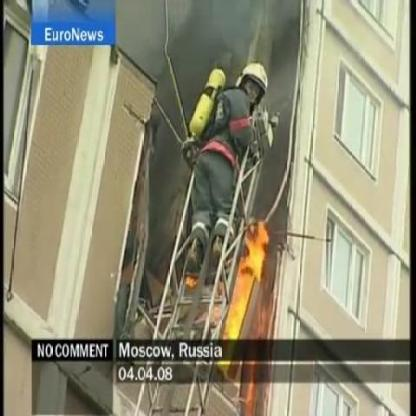fire: (226, 220, 271, 340), (187, 276, 197, 287)
